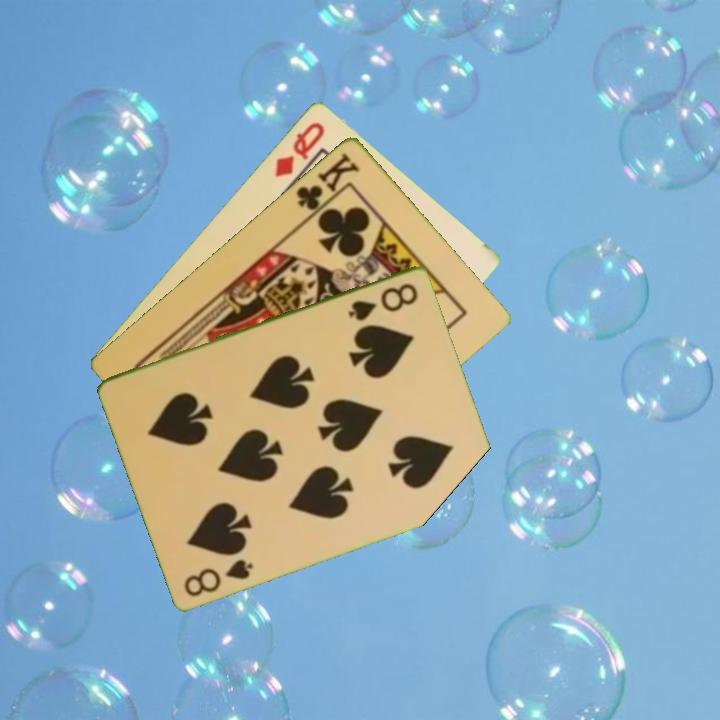8s: (344, 279, 421, 323), (180, 555, 257, 599)
Kc: (292, 148, 363, 221)
Qd: (271, 117, 328, 180)
